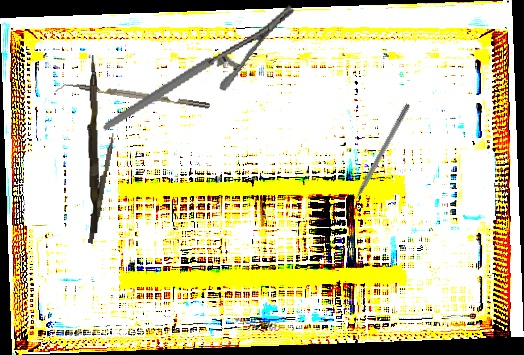Chopper: (54, 78, 211, 117)
Needle Holder: (85, 2, 313, 132)
Pusher: (344, 102, 411, 215), (83, 54, 103, 234), (87, 131, 116, 245)
